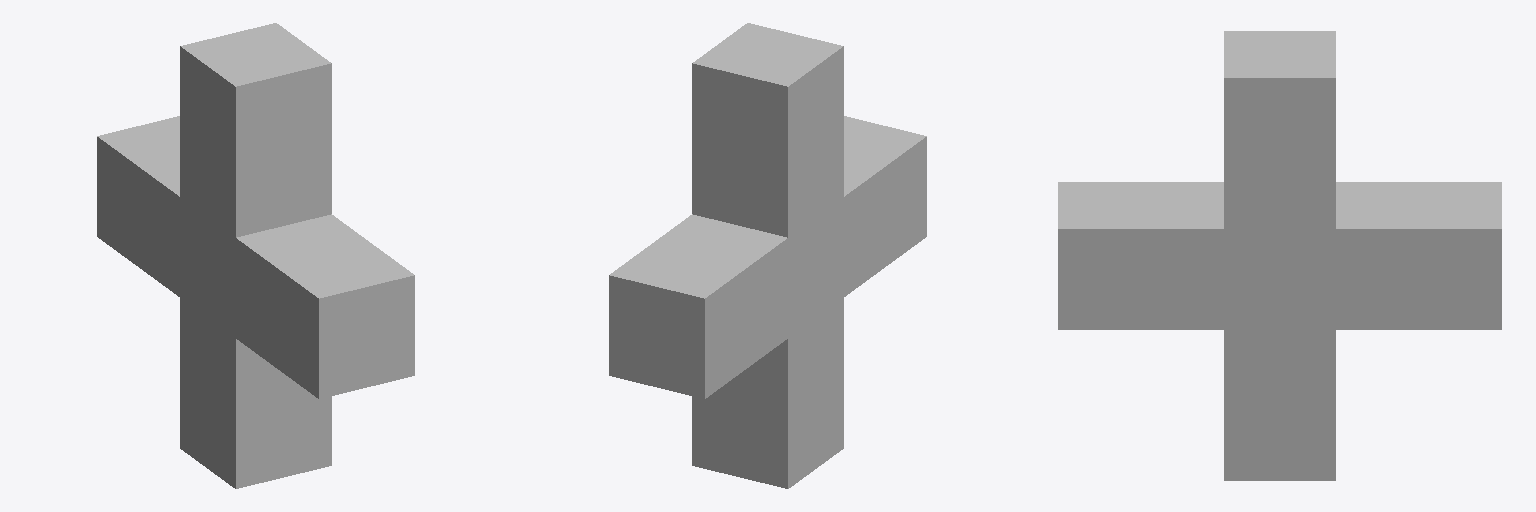
The model's file is cross.obj.
The picture shows the model from 3 angles: view 1: azimuth 30°, elevation 25°; view 2: azimuth 150°, elevation 25°; view 3: azimuth 270°, elevation 25°; orthographic projection.
Parts seen in each view (by area): view 1: Cube; view 2: Cube; view 3: Cube.
Boxes of the visible parts, <box> form: Cube: <box>97,23,414,488</box>; Cube: <box>609,23,926,488</box>; Cube: <box>1058,31,1501,480</box>.
Size of the model in its own units: 4 by 16 by 16.